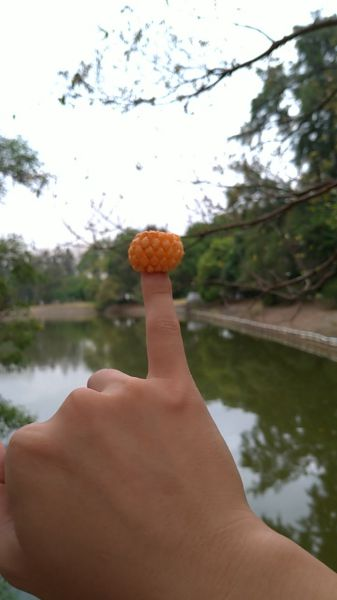eggs: (126, 228, 183, 274)
